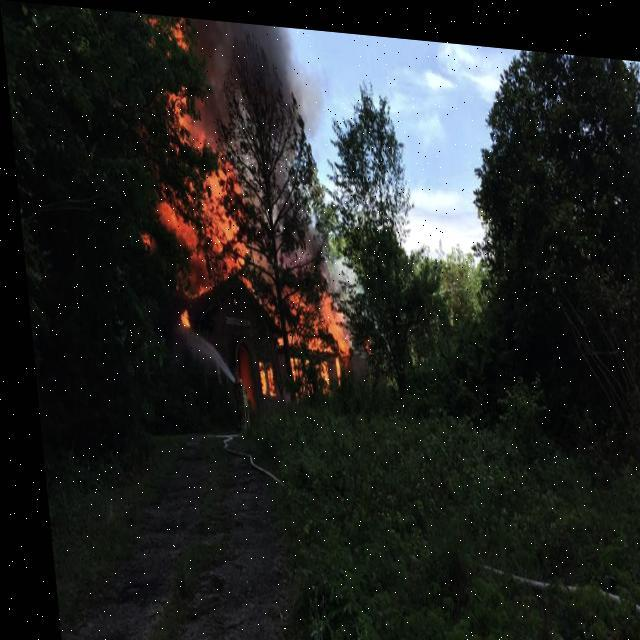Fire: (142, 16, 262, 296), (274, 284, 348, 388), (250, 356, 270, 392), (172, 306, 188, 330)
